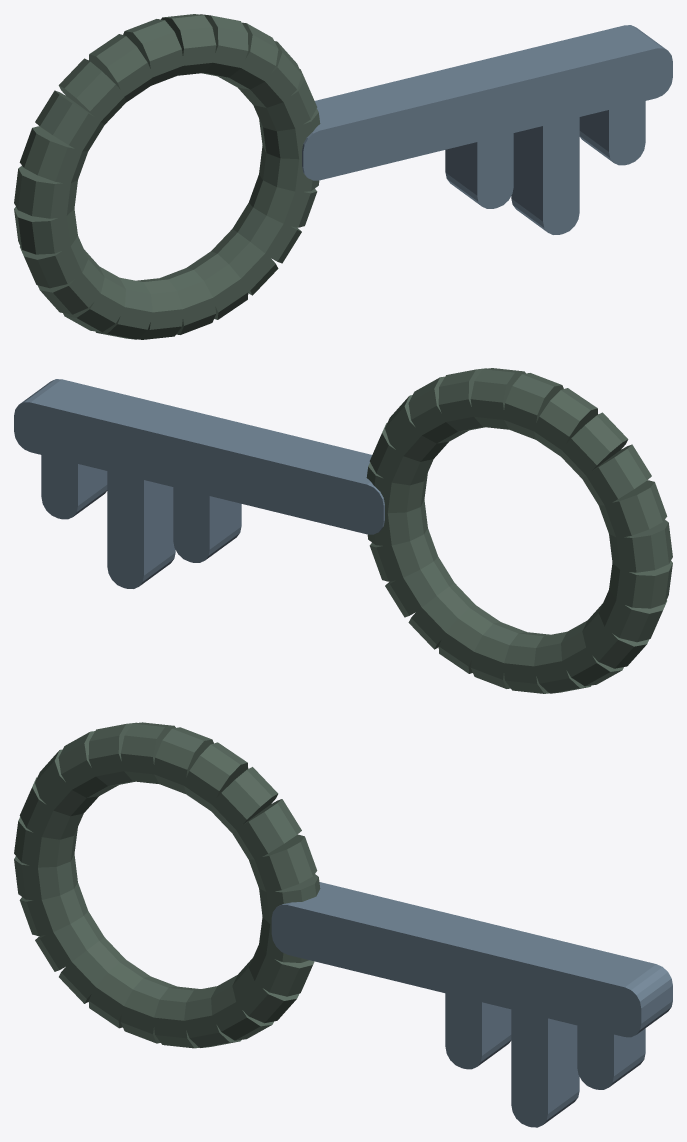
Rendered from key.glb.
3 renders of one model, top to bottom at view 1: azimuth 30°, elevation 25°; view 2: azimuth 150°, elevation 25°; view 3: azimuth 330°, elevation 25°, orthographic.
Visible parts, largest first — view 1: shaft, tooth 1, tooth 0, tooth 2, key ring10, key ring7, key ring8, key ring9, key ring11, key ring6, key ring12, key ring5 (+16 smaller); view 2: shaft, tooth 1, tooth 0, tooth 2, key ring10, key ring7, key ring8, key ring9, key ring11, key ring6, key ring12, key ring5 (+16 smaller); view 3: shaft, tooth 1, tooth 0, tooth 2, key ring1, key ring4, key ring3, key ring2, key ring5, key ring6, key ring14, key ring15 (+16 smaller).
Boxes of the visible parts, box(x1,y1,x2,y2) form: shaft: box(302, 25, 672, 180); tooth 1: box(511, 103, 579, 234); tooth 0: box(445, 119, 513, 208); tooth 2: box(579, 87, 645, 165); key ring10: box(19, 126, 88, 184); key ring7: box(88, 34, 153, 102); key ring8: box(58, 58, 125, 124); key ring9: box(35, 90, 104, 151); key ring11: box(14, 166, 77, 218); key ring6: box(123, 19, 183, 85); key ring12: box(14, 207, 77, 254); key ring5: box(161, 14, 216, 75); shaft: box(14, 379, 384, 534); tooth 1: box(107, 457, 175, 588); tooth 0: box(173, 473, 241, 562); tooth 2: box(41, 442, 107, 519); key ring10: box(598, 480, 667, 538); key ring7: box(533, 388, 598, 456); key ring8: box(561, 412, 628, 478); key ring9: box(582, 444, 651, 505); key ring11: box(609, 520, 672, 572); key ring6: box(503, 373, 563, 439); key ring12: box(609, 561, 672, 608); key ring5: box(470, 368, 525, 429); shaft: box(271, 882, 672, 1037); tooth 1: box(511, 996, 579, 1127); tooth 0: box(445, 981, 511, 1069); tooth 2: box(577, 1012, 645, 1089); key ring1: box(249, 834, 317, 891); key ring4: box(183, 742, 248, 810); key ring3: box(211, 767, 278, 833); key ring2: box(232, 799, 301, 859); key ring5: box(154, 727, 213, 793); key ring6: box(120, 722, 175, 784); key ring14: box(35, 911, 104, 971); key ring15: box(59, 937, 125, 1003).
Bounding box in the file's own units: 1.75 × 0.8228 × 0.15.
